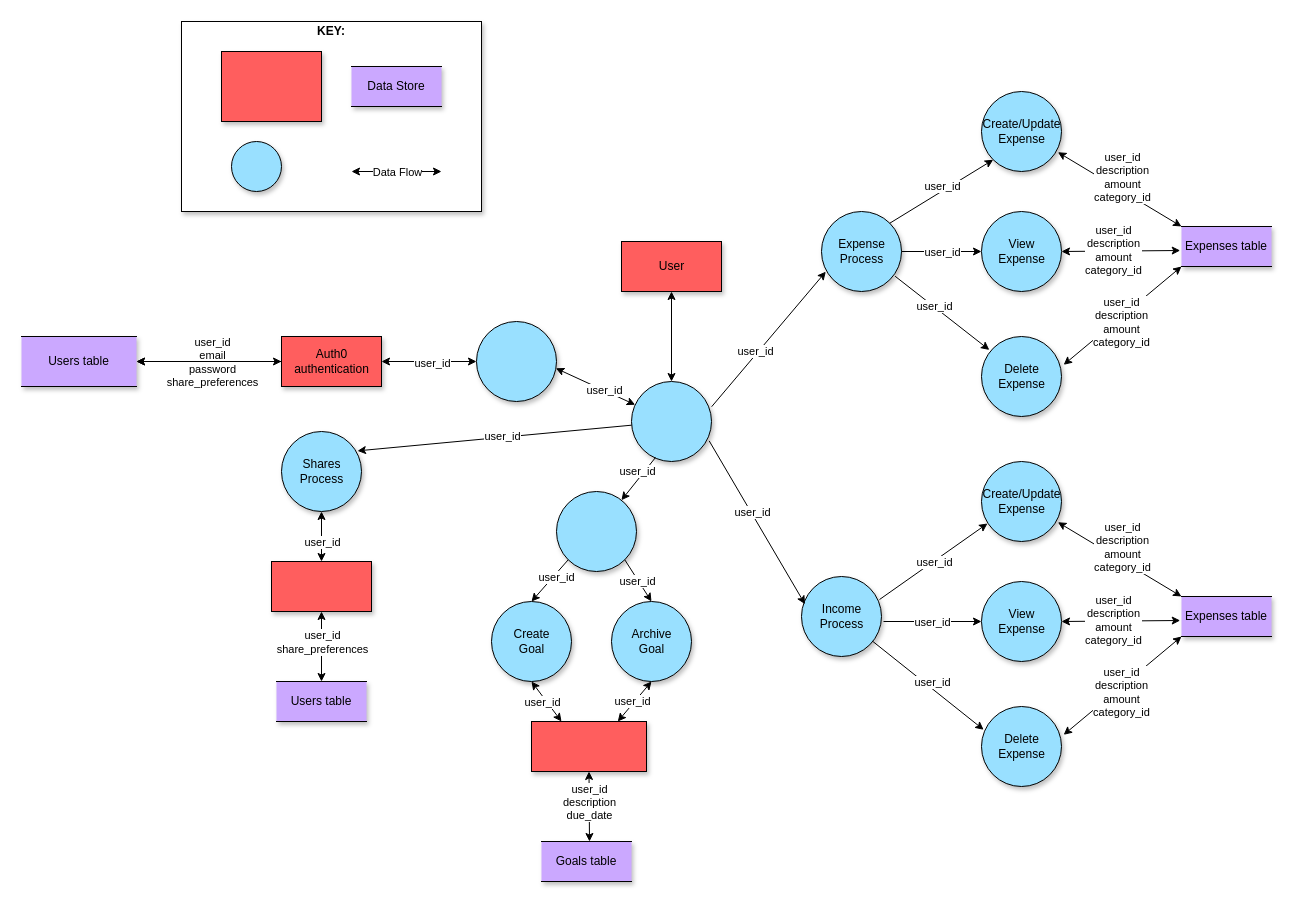
Some shapes in this 1295 by 906 pixel diagram are drawn without their labels. Here are the shapes that lost their labels. From the top down, the centre of each, then its label:
At pixel 272 87: "External Entity".
At pixel 257 167: "Process".
At pixel 517 362: "User Auhentication Process".
At pixel 672 422: "Budget Tracker App".
At pixel 597 532: "Goals Process".
At pixel 322 587: "TradingView API".
At pixel 589 747: "React-Beautiful-dnd".
